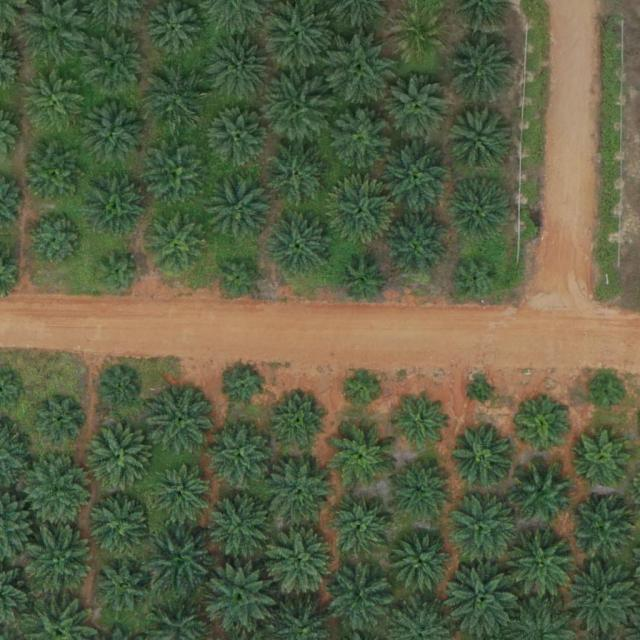Healthy: (21, 523, 99, 602), (141, 517, 219, 596), (203, 561, 281, 640), (263, 525, 341, 603), (326, 34, 397, 105), (569, 494, 640, 565), (23, 456, 93, 527), (507, 531, 577, 602), (327, 180, 397, 250), (449, 33, 519, 103), (382, 142, 452, 212), (262, 75, 332, 145), (448, 490, 518, 560), (450, 179, 513, 242), (269, 214, 332, 277), (145, 65, 208, 128), (84, 101, 147, 164), (25, 143, 88, 206), (152, 388, 215, 451), (209, 424, 272, 487), (209, 494, 272, 557), (332, 426, 395, 489), (329, 498, 392, 561), (452, 424, 515, 487), (447, 108, 510, 170), (386, 216, 448, 279), (267, 148, 329, 211), (208, 37, 270, 100), (209, 108, 271, 171), (209, 176, 271, 239), (147, 144, 209, 207), (147, 214, 209, 277), (88, 34, 150, 97), (85, 178, 147, 241), (26, 69, 88, 132), (89, 425, 151, 488), (88, 497, 150, 560), (92, 557, 155, 619), (149, 464, 211, 527), (269, 459, 331, 522), (330, 569, 392, 632), (390, 459, 452, 522), (391, 531, 453, 594), (512, 460, 574, 523), (389, 79, 451, 141), (330, 110, 392, 172), (29, 214, 84, 269), (275, 394, 330, 449), (393, 396, 448, 451), (517, 402, 572, 457), (576, 431, 631, 486), (147, 4, 201, 59), (341, 259, 388, 306)
Small: (454, 255, 501, 303), (96, 250, 143, 298), (38, 397, 85, 444), (218, 256, 265, 303), (101, 368, 140, 408), (226, 367, 265, 407), (589, 375, 628, 415), (342, 368, 381, 407), (472, 380, 495, 404)
Yellow: (392, 10, 447, 65)
